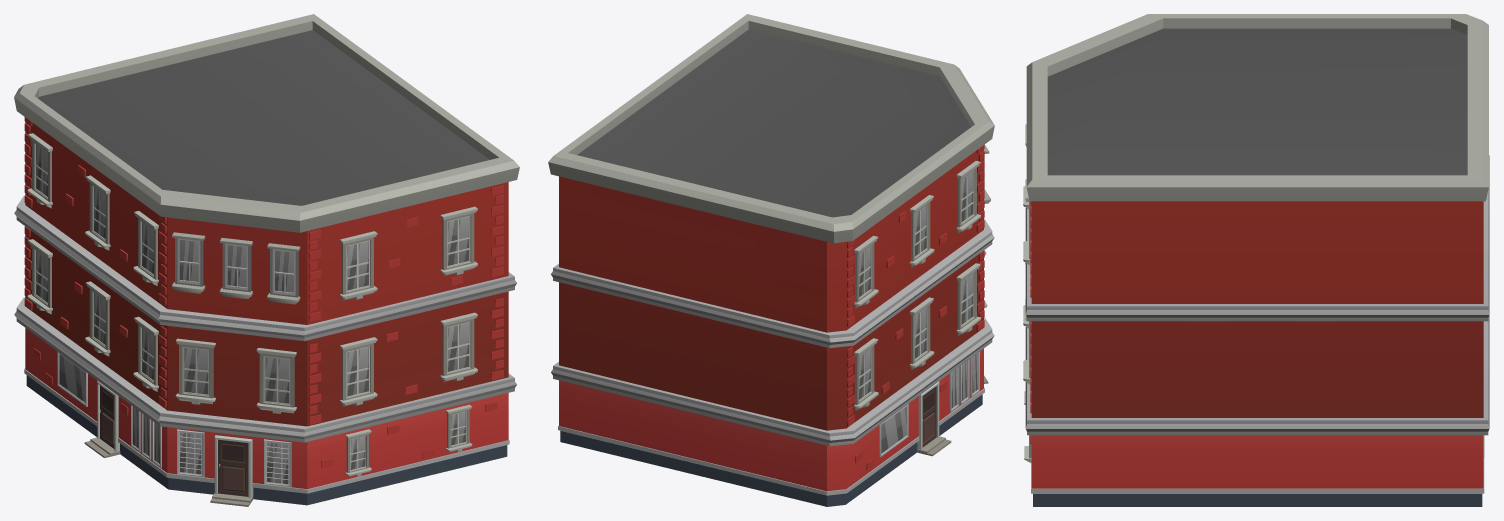
Rendered from Building_25_3_A.fbx.
The picture shows the model from 3 angles, left to right: view 1: azimuth 30°, elevation 25°; view 2: azimuth 150°, elevation 25°; view 3: azimuth 270°, elevation 25°; orthographic projection. The views are drawn at different scales.
Visible parts, largest first — view 1: Building_25_3_A; view 2: Building_25_3_A; view 3: Building_25_3_A.
Boxes of the visible parts, x1,y1,x2,y2 form: Building_25_3_A: (14,14,519,506); Building_25_3_A: (548,14,994,506); Building_25_3_A: (1023,14,1489,506).
Size of the model in its own units: 1291 by 1159 by 1479.
